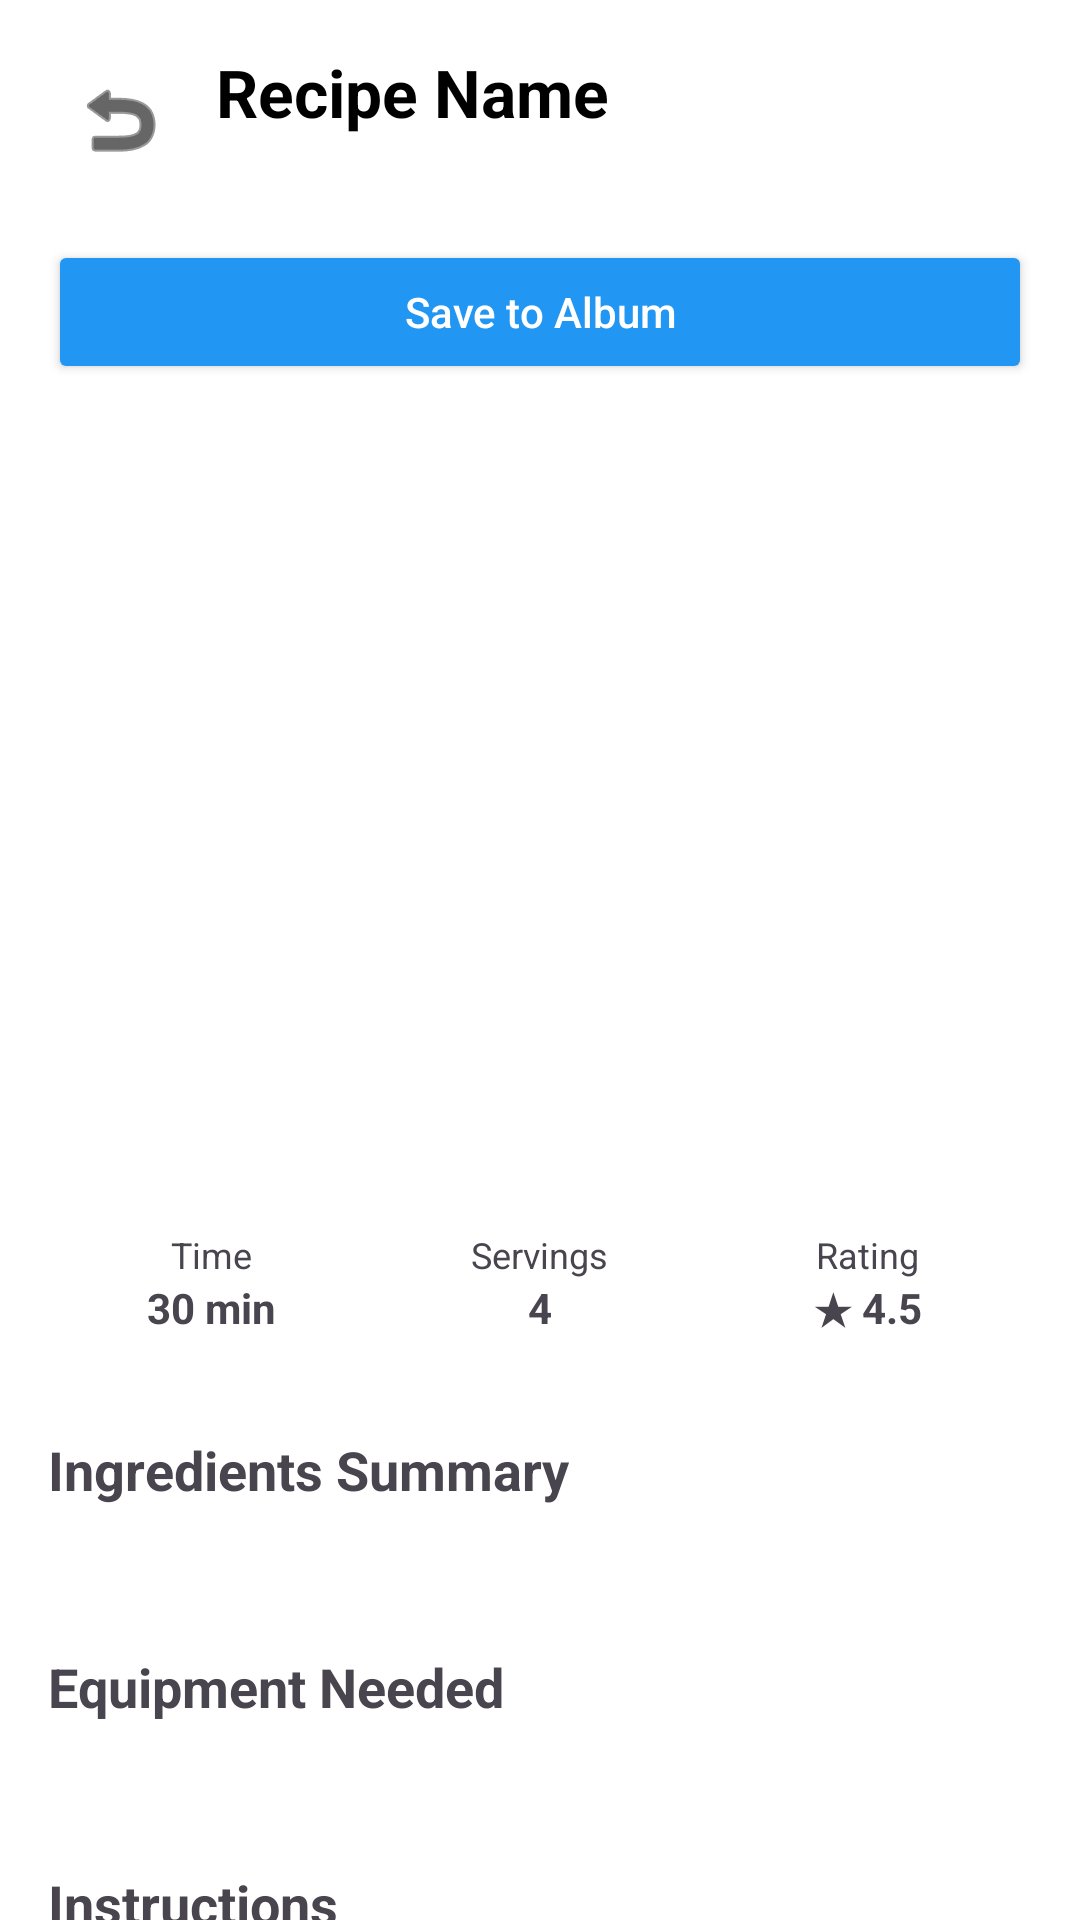

Screen size 1080 x 1920. Icon name, then its center in pixels as point (x, y):
Go back: point (121, 120)
